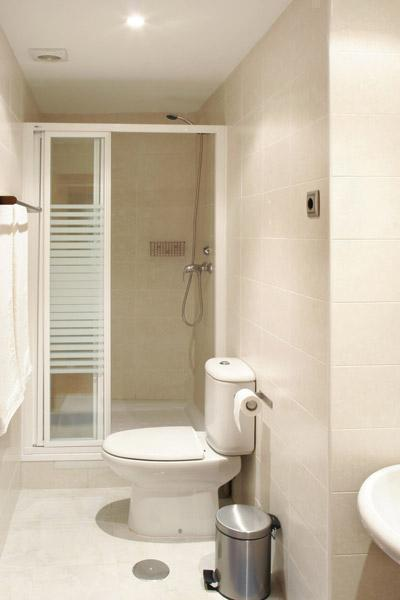Bote de Basura: (208, 499, 282, 599)
Ducha: (25, 92, 225, 473)
Sanitario: (107, 355, 256, 537)
